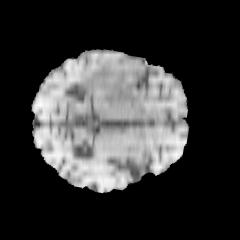glioma: (77, 57, 146, 106)
